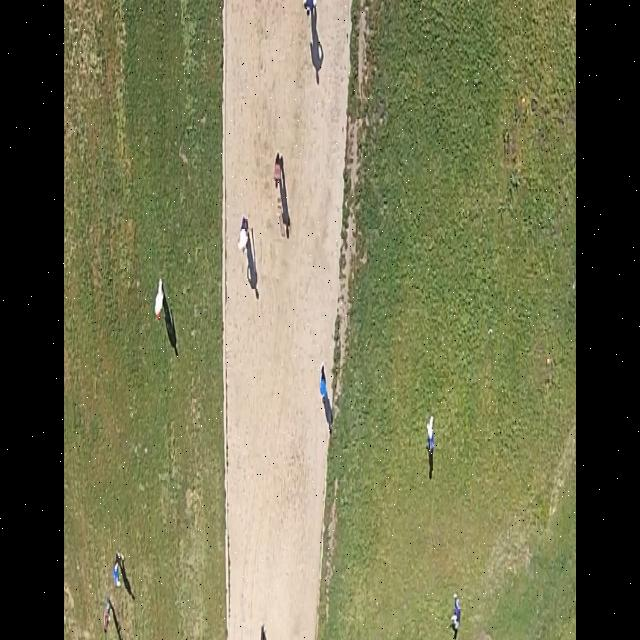humans: (150, 274, 168, 322), (447, 592, 464, 638), (110, 550, 124, 597), (425, 409, 436, 459), (316, 360, 328, 405), (272, 149, 284, 194), (236, 217, 250, 255), (100, 599, 112, 636)
